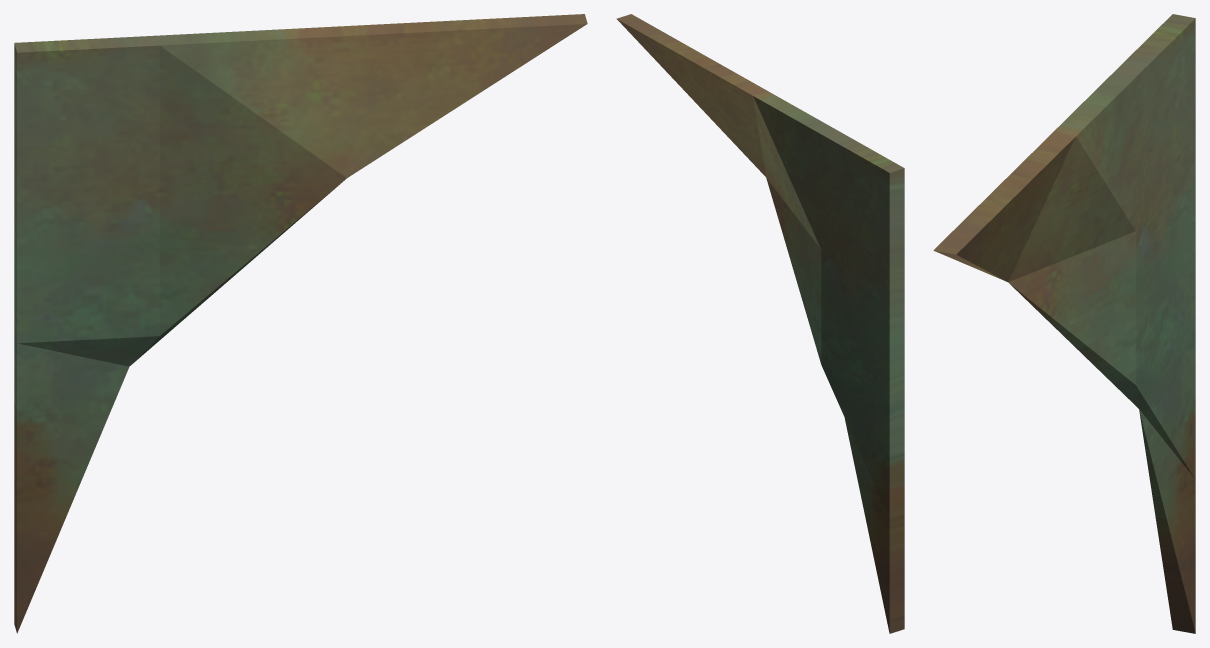
File: GH_1_EmbCR_3.gltf
3 renders of one model, left to right at view 1: azimuth 30°, elevation 25°; view 2: azimuth 150°, elevation 25°; view 3: azimuth 270°, elevation 25°, orthographic. The views are drawn at different scales.
Visible parts, largest first — view 1: GH_1_EmbCR_3; view 2: GH_1_EmbCR_3; view 3: GH_1_EmbCR_3.
Boxes of the visible parts, box(x1,y1,x2,y2) form: GH_1_EmbCR_3: box(14, 14, 587, 633); GH_1_EmbCR_3: box(616, 14, 904, 633); GH_1_EmbCR_3: box(933, 14, 1195, 633).
Bounding box in the file's own units: 1.17 × 1.4 × 0.5411.
1 material, 1 textured.
